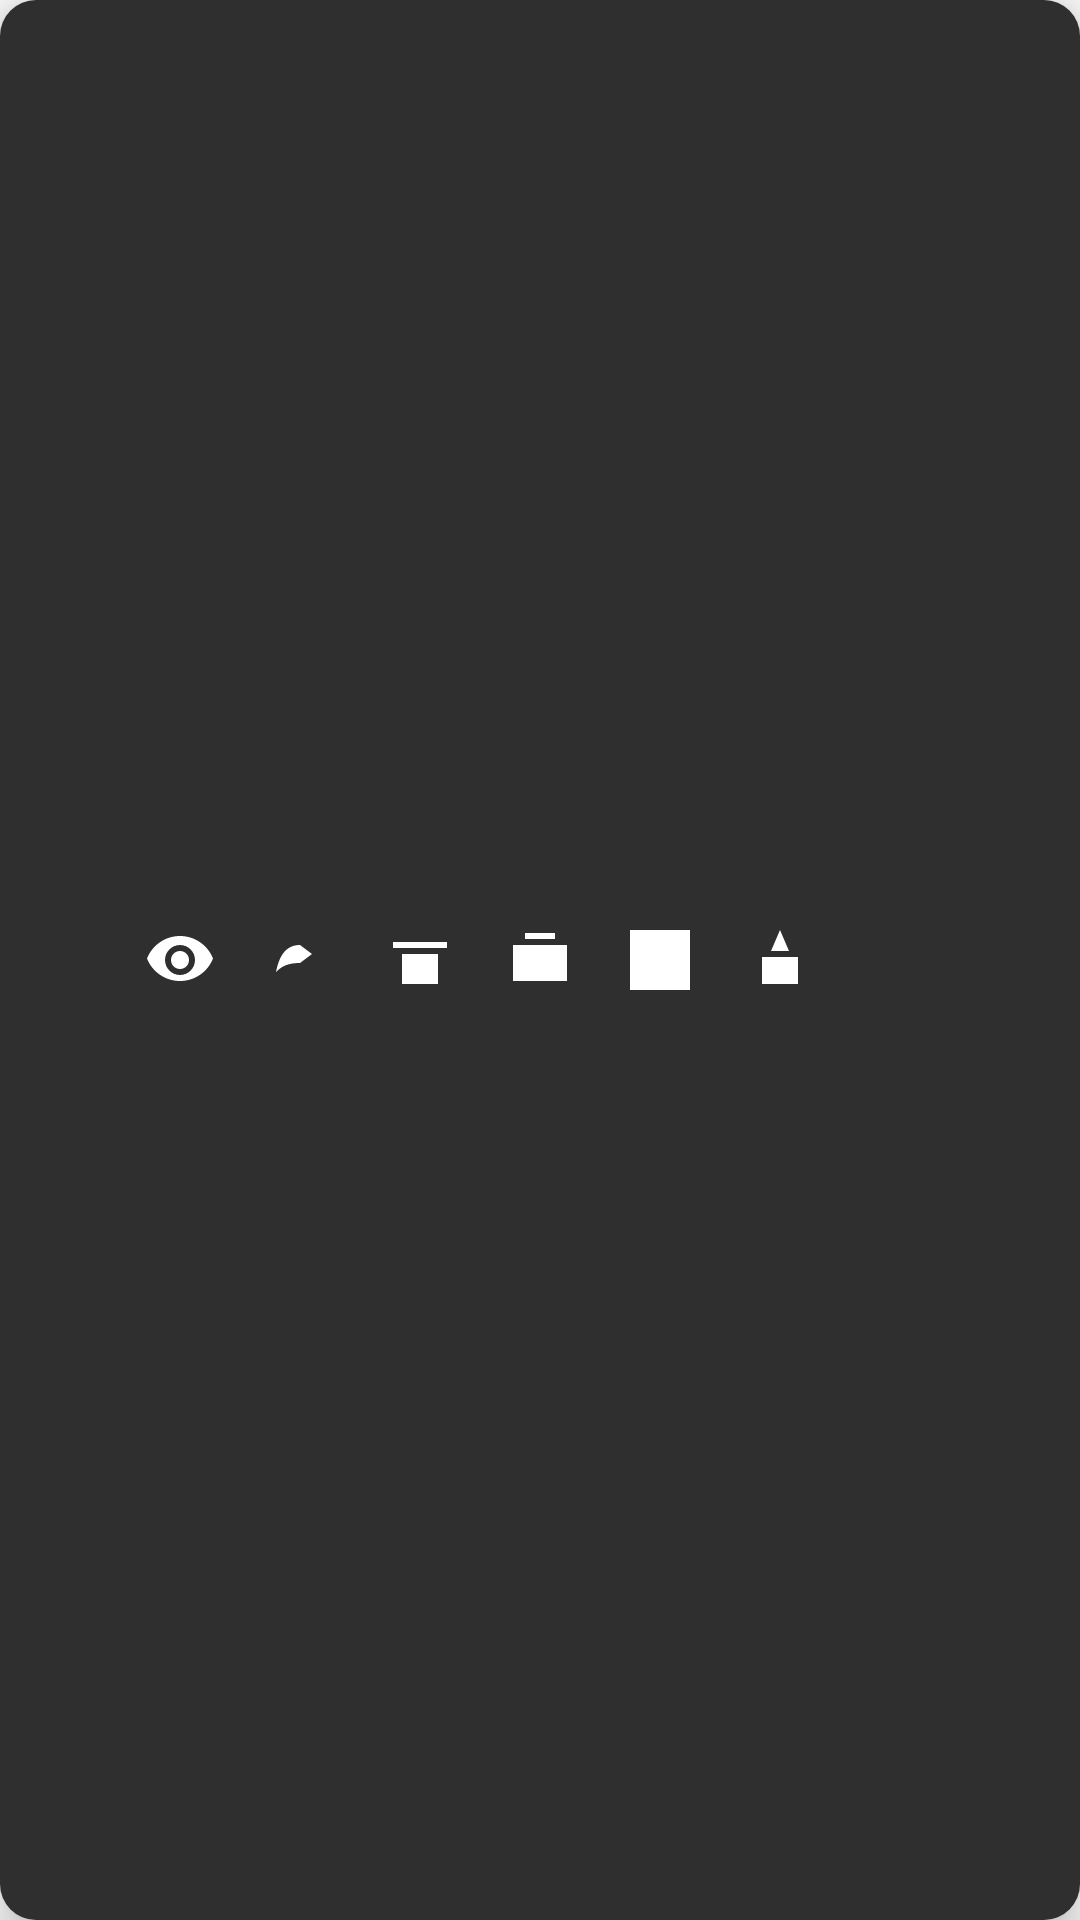

Named icons in this screenshot (1080px×1920px) and their centers, (x,y):
Toggle visibility: (180,958)
